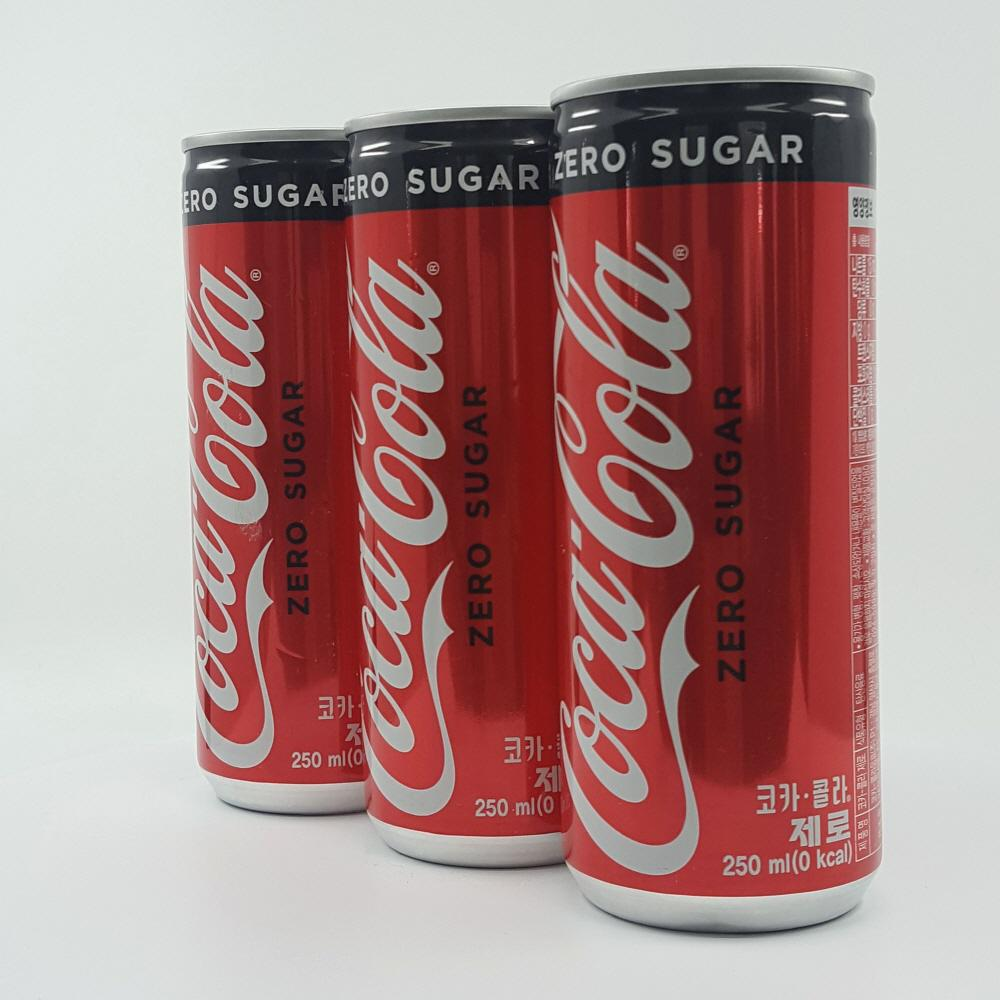cocacola_zero: (549, 60, 891, 934), (335, 94, 567, 876), (169, 121, 365, 823)
